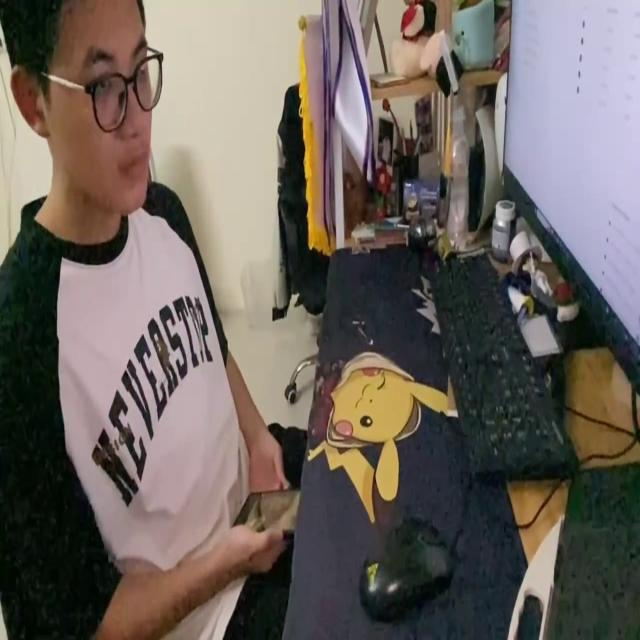laptop: (502, 11, 640, 396)
phone: (233, 485, 300, 537)
student: (0, 1, 294, 640)
